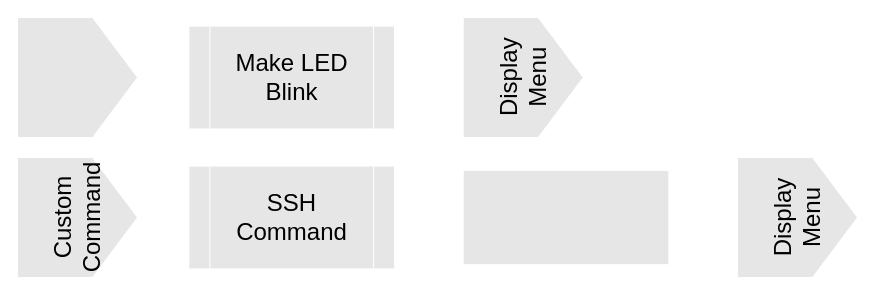
Image size: 875x296. Some labels were removed from this diagram. The shapes that lost their labels are listed below. From the top down, each one's box as (x1, y1, x2, y2) in pixels, then its label:
(16, 16, 138, 138): LED
(462, 169, 669, 265): Display Output
